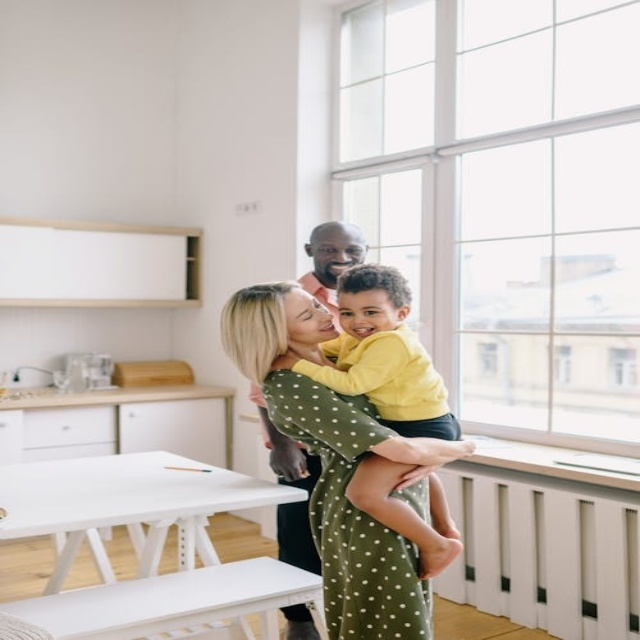Sin_gafas: (338, 298, 384, 320), (296, 295, 332, 319), (310, 245, 368, 257)
Sin_mascara: (326, 260, 355, 267), (353, 327, 374, 335), (320, 323, 333, 330)
